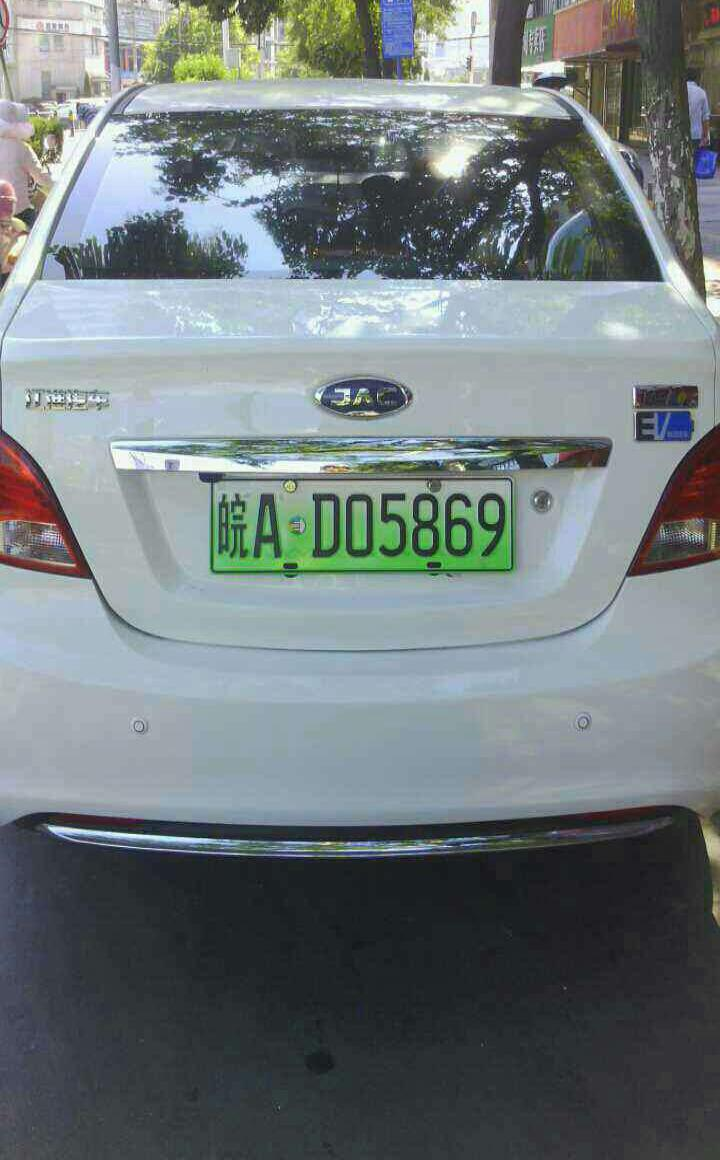car_green: (201, 480, 522, 579)
